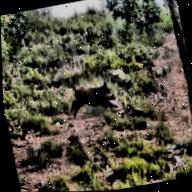boar: (65, 81, 128, 126)
